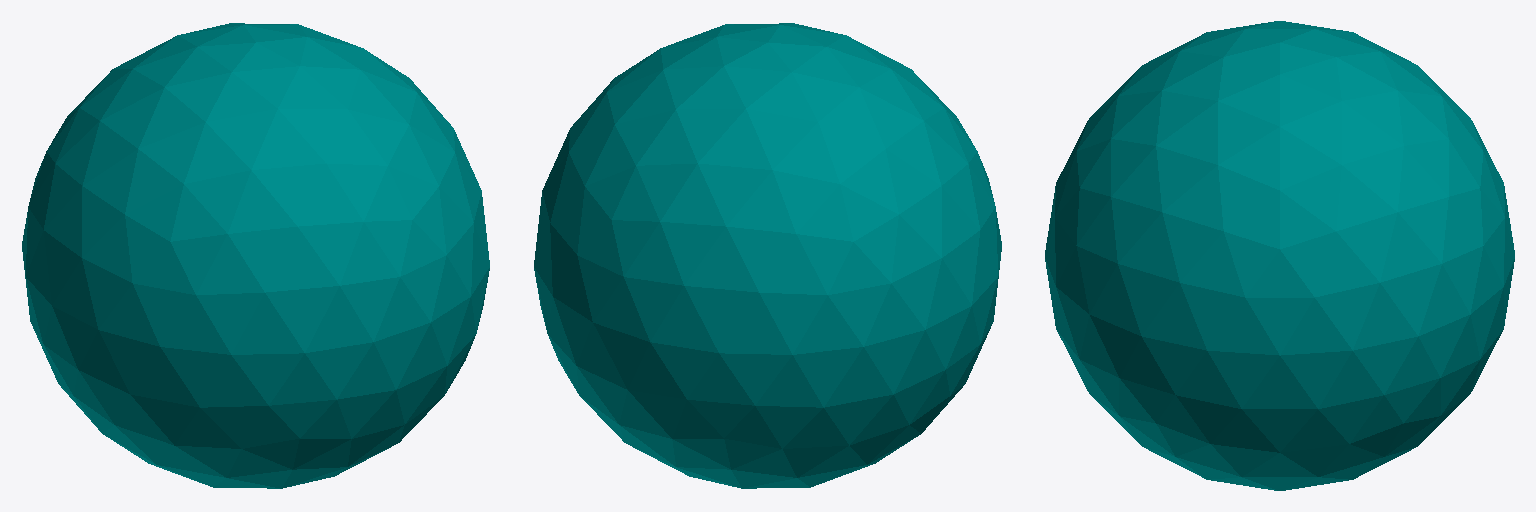
The model's file is Neptune.obj.
The picture shows the model from 3 angles: view 1: azimuth 30°, elevation 25°; view 2: azimuth 150°, elevation 25°; view 3: azimuth 270°, elevation 25°; orthographic projection.
Parts seen in each view (by area): view 1: Icosphere_Icosphere.001; view 2: Icosphere_Icosphere.001; view 3: Icosphere_Icosphere.001.
Part boxes in pixels (x1,y1,x2,y2): Icosphere_Icosphere.001: (22,23,489,488); Icosphere_Icosphere.001: (534,23,1001,488); Icosphere_Icosphere.001: (1045,21,1514,490).
Size of the model in its own units: 2 by 2 by 2.